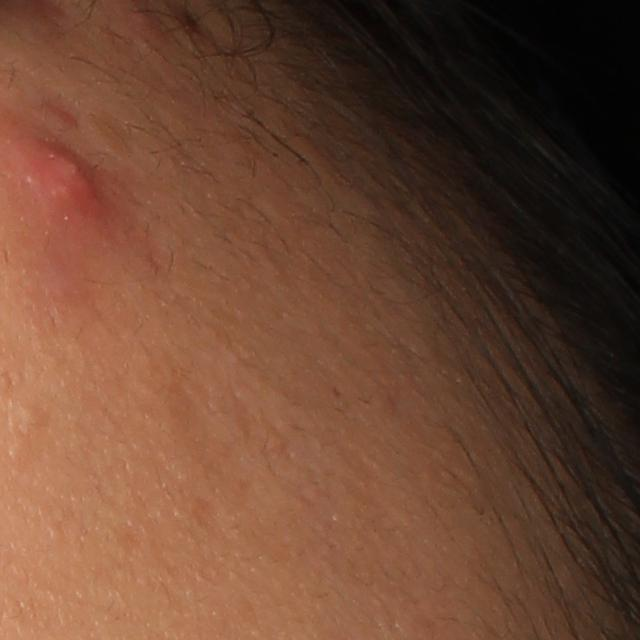papule: (17, 135, 110, 221)
